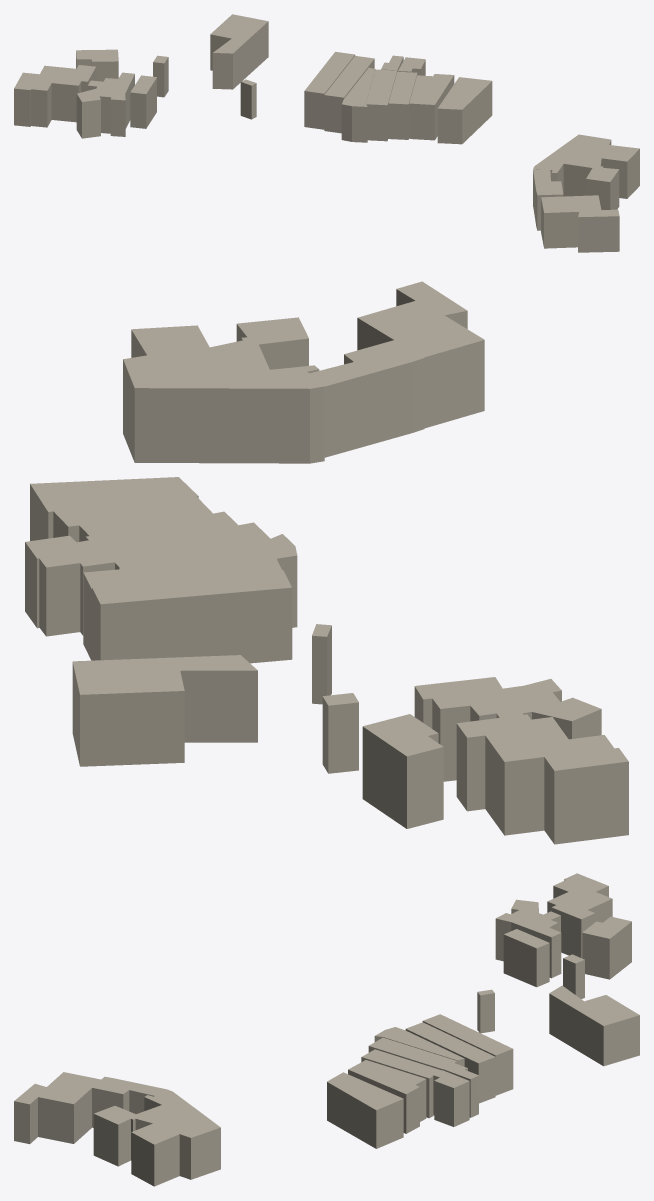
The model's file is kalkara_67_29_mid.glb.
3 renders of one model, top to bottom at view 1: azimuth 30°, elevation 25°; view 2: azimuth 150°, elevation 25°; view 3: azimuth 270°, elevation 25°, orthographic. The views are drawn at different scales.
Visible parts, largest first — view 1: geometry_0; view 2: geometry_0; view 3: geometry_0.
Boxes of the visible parts, <box> form: geometry_0: <box>14,14,639,252</box>; geometry_0: <box>25,281,628,844</box>; geometry_0: <box>14,873,639,1186</box>.
Bounding box in the file's own units: 140 × 20.19 × 155.
